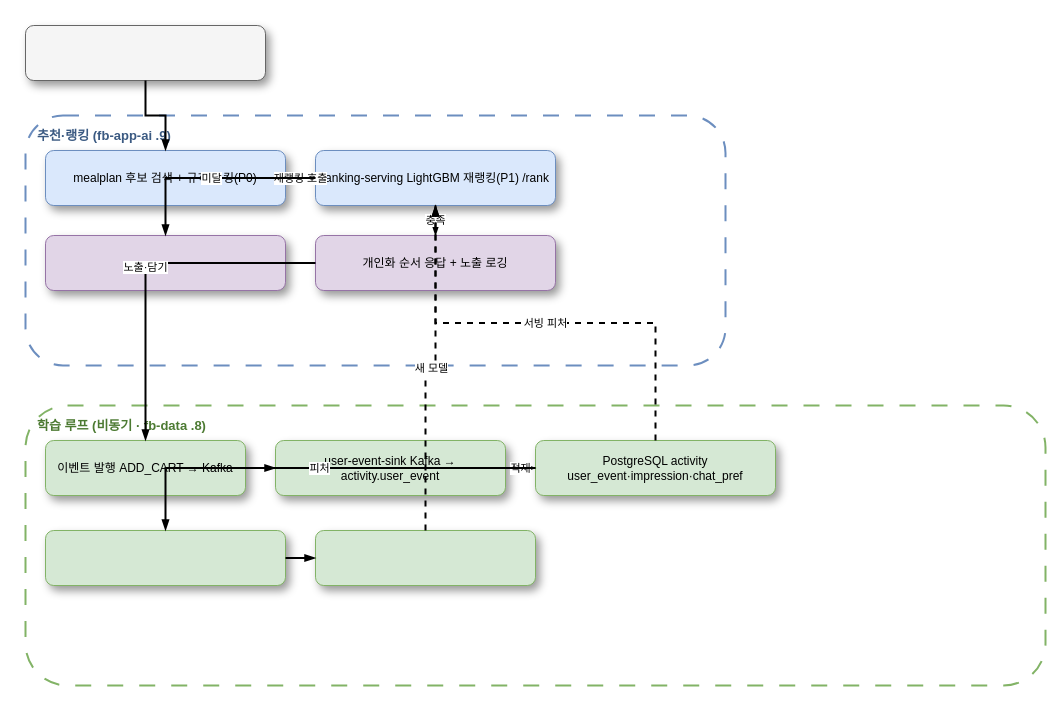
This 1064x704 diagram has some shape labels left out. The centre of each missing label's shape, as x and y in pixels:
ranking-retrain 학습행≥200 → LightGBM 학습: (x=167, y=560)
모델 저장 → /reload (서빙 자동 반영): (x=427, y=560)
콜드스타트·장애 → 규칙순 폴백 (personalized=false): (x=167, y=265)
트리거: 식단 추천 요청 POST /api/mealplan/recommend: (x=147, y=55)
